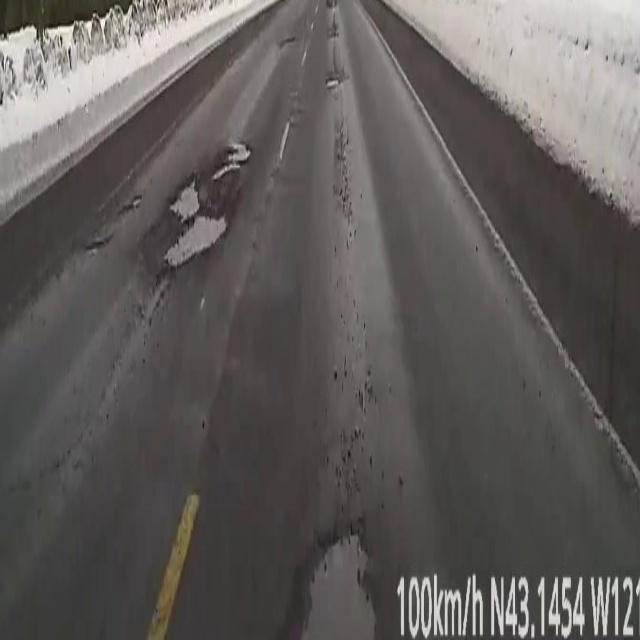pothole: (166, 183, 225, 267), (274, 582, 376, 620), (213, 143, 250, 178)
